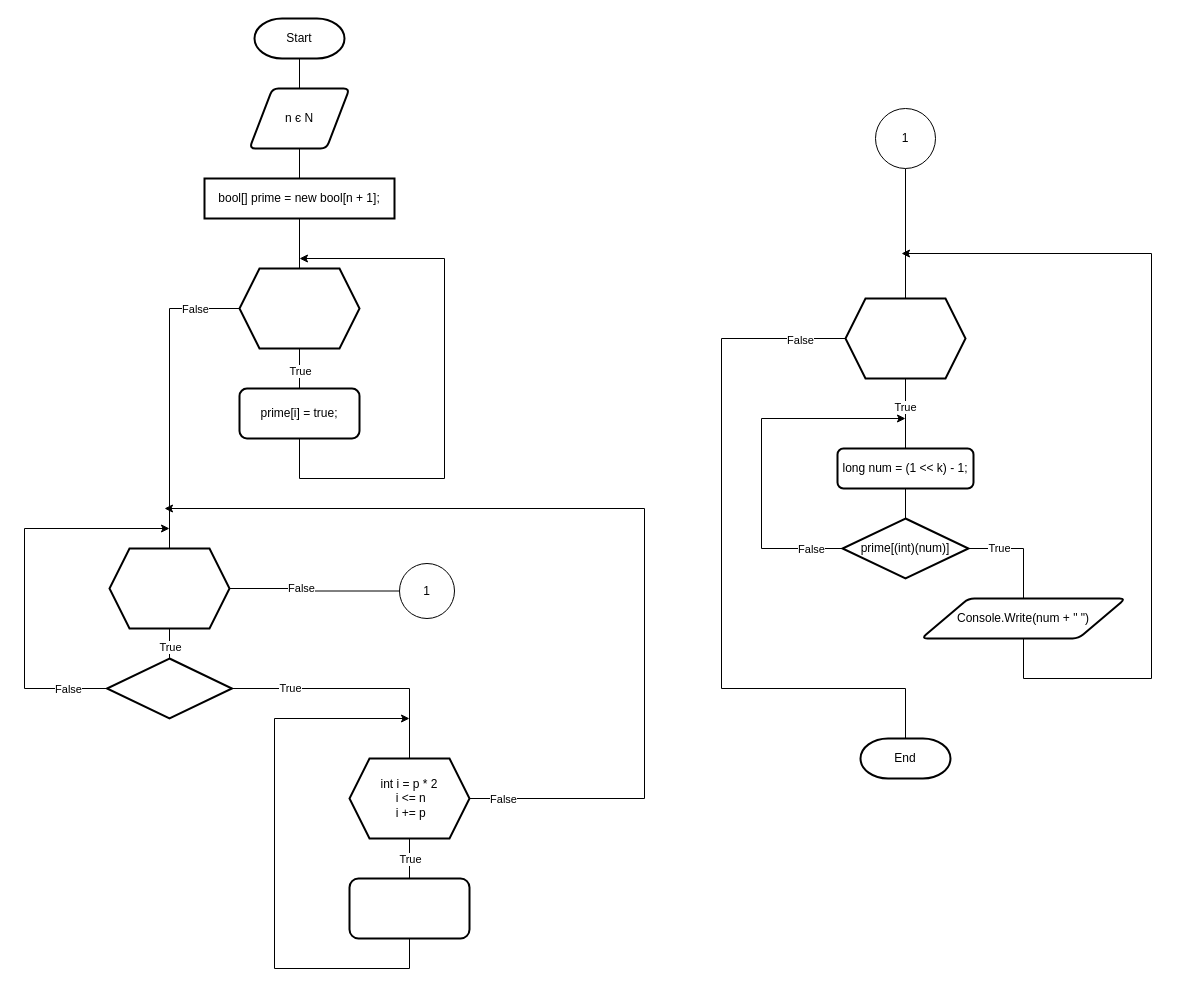
The diagram is 1177 pixels wide and 994 high, and some of its shapes have lost their labels. Each missing label, with the centre of its shape:
int i = 0 i <= n i++: pixel 299 308
int k = 1 ((1 << k) - 1) <= n k++: pixel 905 338
int p = 2 p * p <= n p++: pixel 169 588
prime[i] = false;: pixel 409 908
prime[p] == true: pixel 169 688
